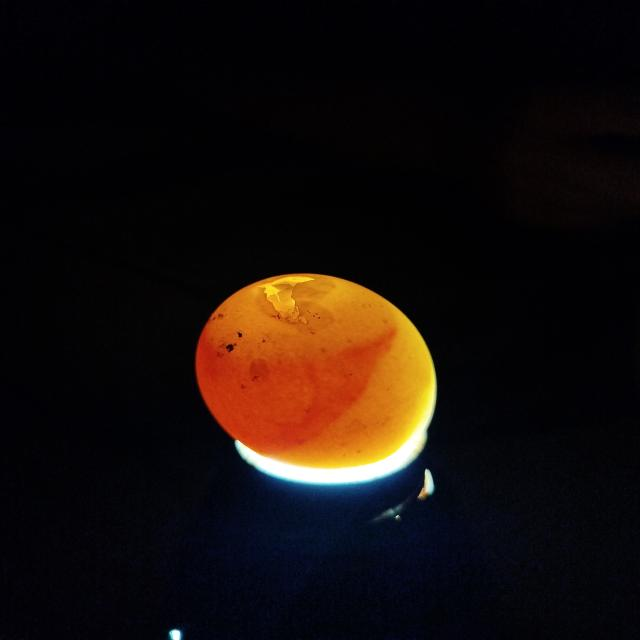Gema Quebrada: (194, 321, 398, 456)
